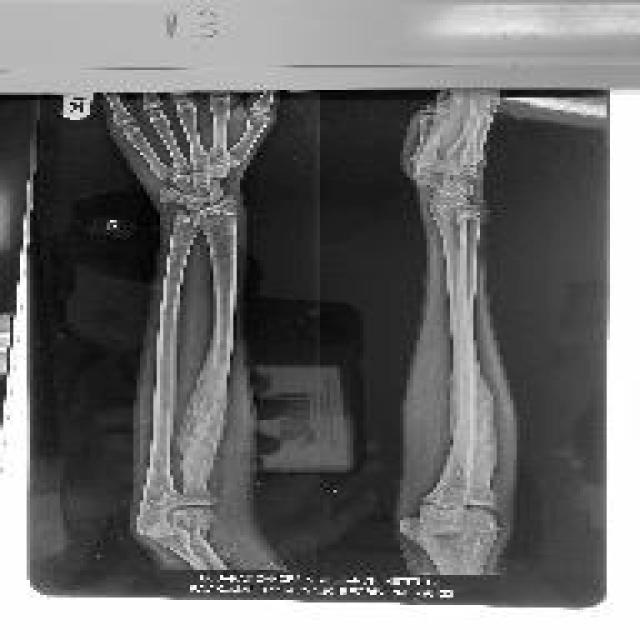bone-cancer: (444, 363, 502, 493), (176, 360, 227, 485)
